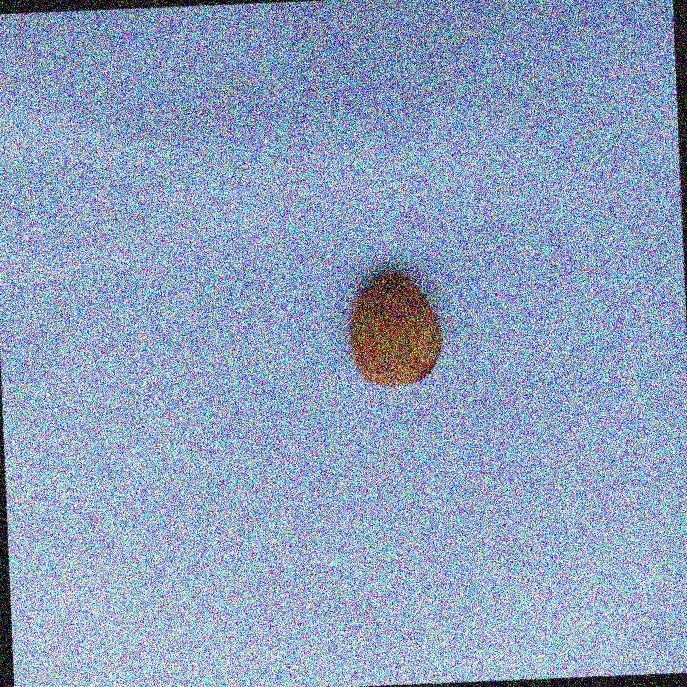grade1: (337, 261, 451, 395)
